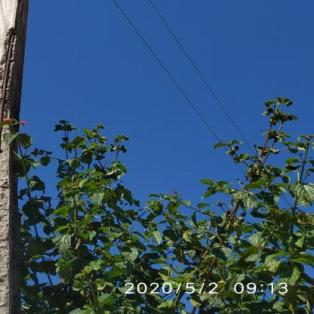Poste: (0, 0, 51, 314)
